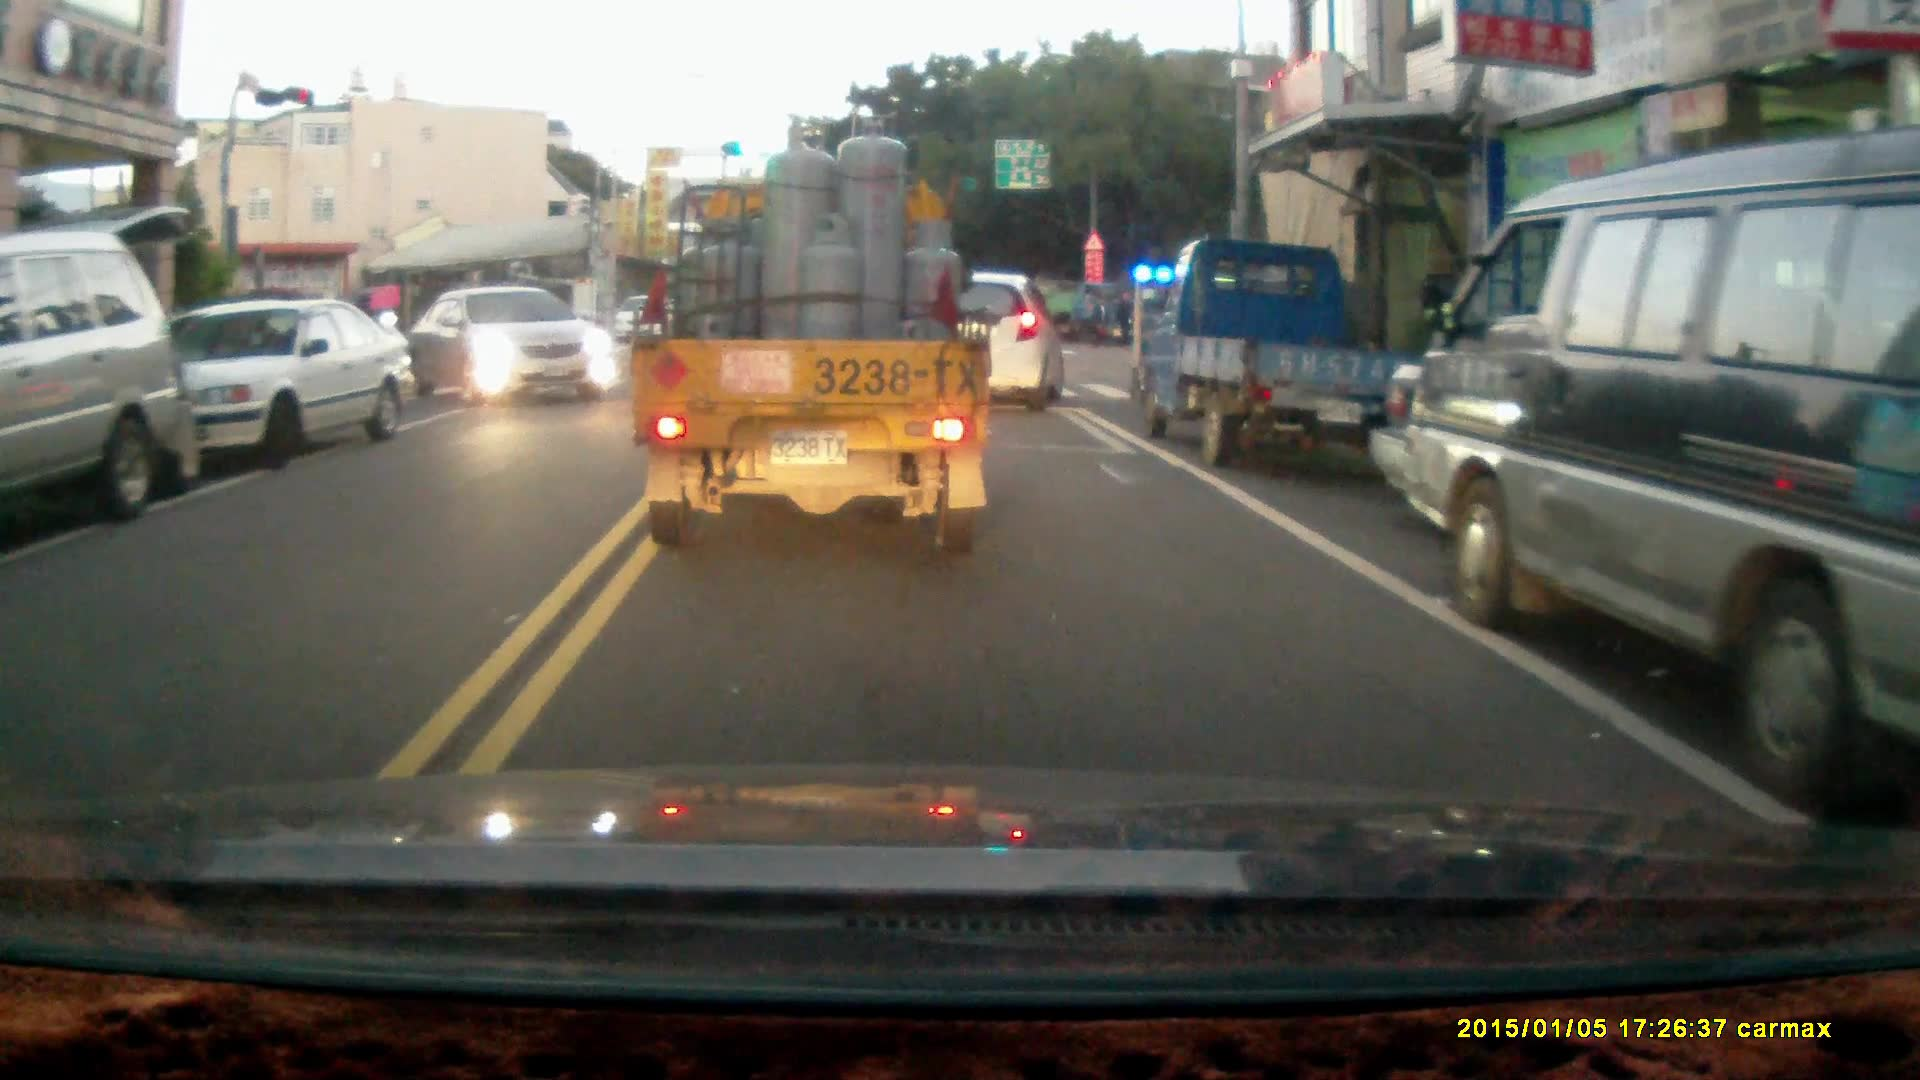vehicle: (1385, 129, 1920, 791), (633, 117, 1001, 556), (1133, 237, 1407, 472), (1, 225, 182, 524), (112, 302, 414, 477), (415, 286, 622, 407), (913, 268, 1064, 407)
